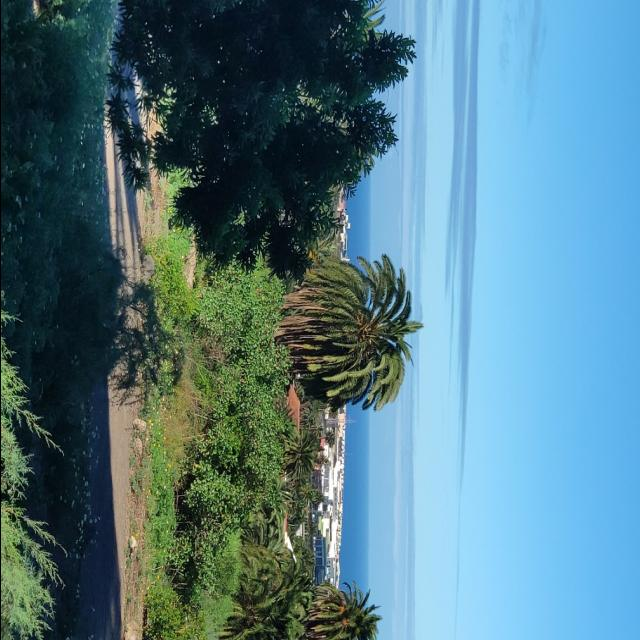Palm-Trees: (274, 248, 420, 410)
